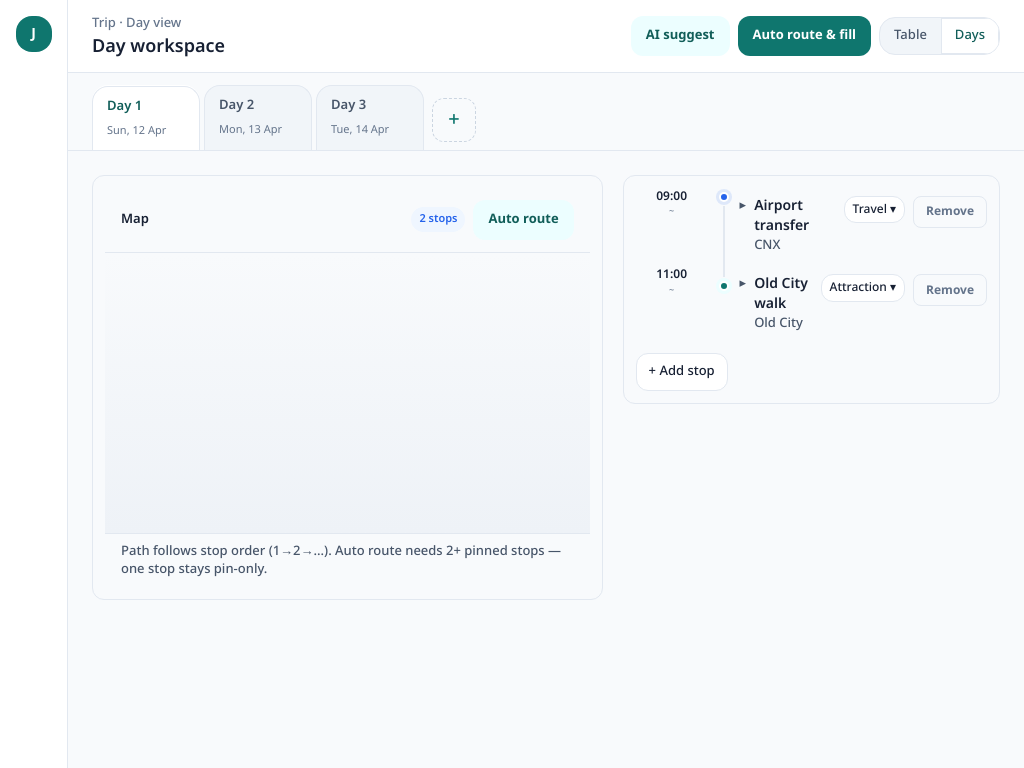
it: DayWorkspacePage topbar AI Suggest / Auto route & fill (T11 #1) › AI suggest and Auto route & fill POST day-plan-assist for the active day and inject returned options as inline chips
The image size is (1024, 768).
What coordinates should you click on to do the following:
click the tab "Day 2 Mon, 13 Apr"
I would click on:
 (258, 117)
Its box is [204,85,312,150].
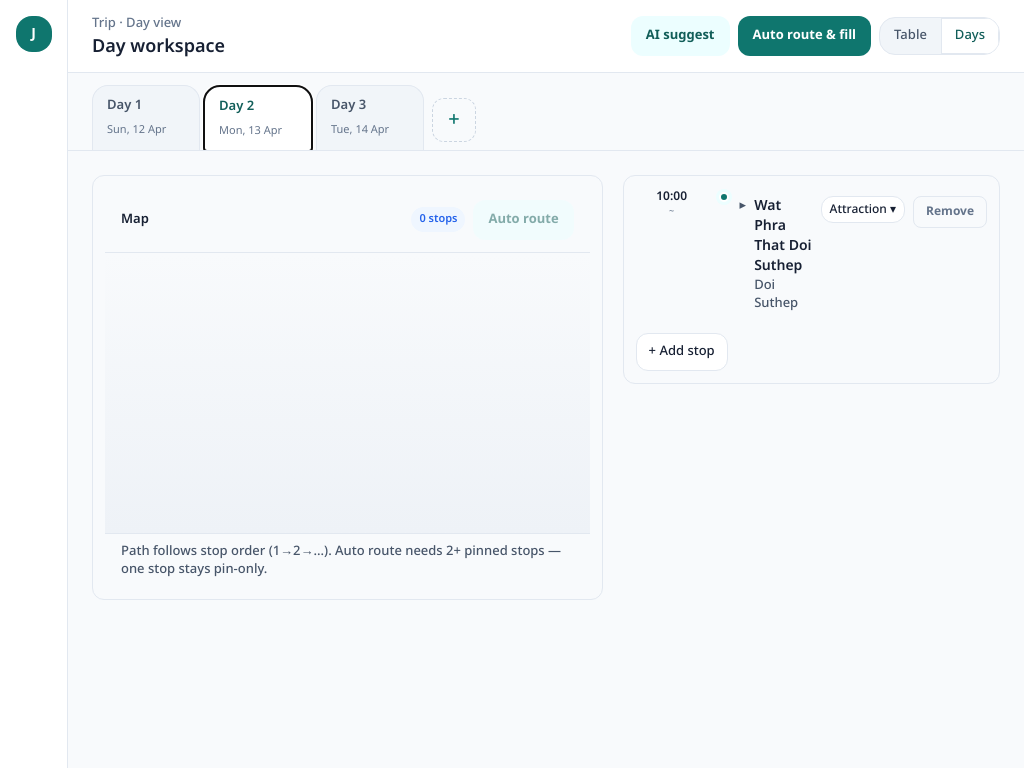
What coordinates should you click on to do the following:
click the button "AI suggest"
I would click on:
 (680, 36)
Its box is [631,16,730,56].
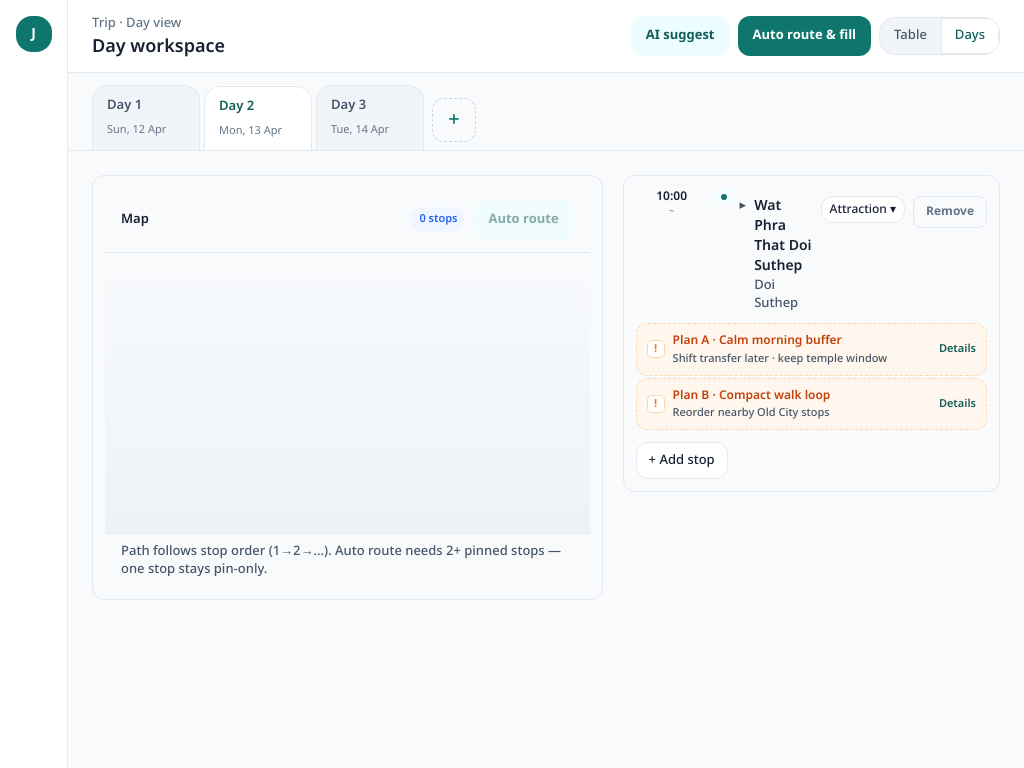
Now the button "Plan A · Calm morning buffer" is shown, box [636,323,987,376]
Now the button "Plan B · Compact walk loop" is shown, box [636,378,987,430]
Now the text "Shift transfer later · keep temple window" is shown, box [673,350,887,367]
Auto route & fill on Day 1 (≥2 geo pins) — autoRoute mode + chips.
What coordinates should you click on to do the following:
click the tab "Day 1 Sun, 12 Apr"
I would click on:
 (146, 117)
Its box is [92,85,200,150].
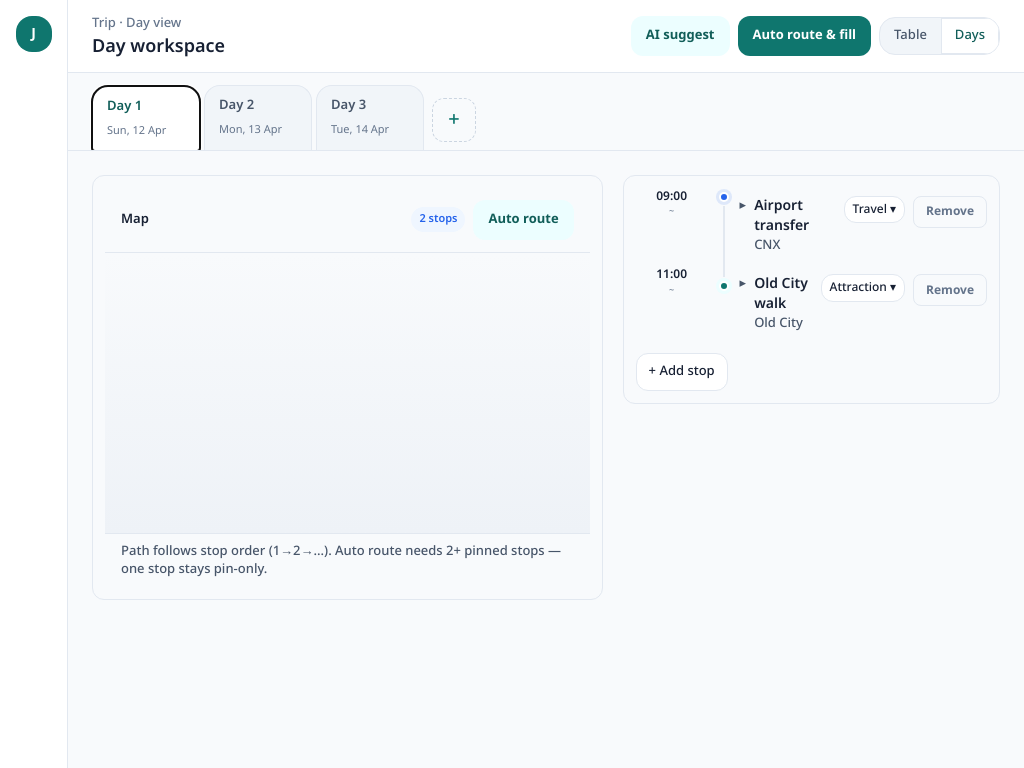
What coordinates should you click on to do the following:
click the button "Auto route & fill"
I would click on:
 (804, 36)
Its box is [738,16,871,56].
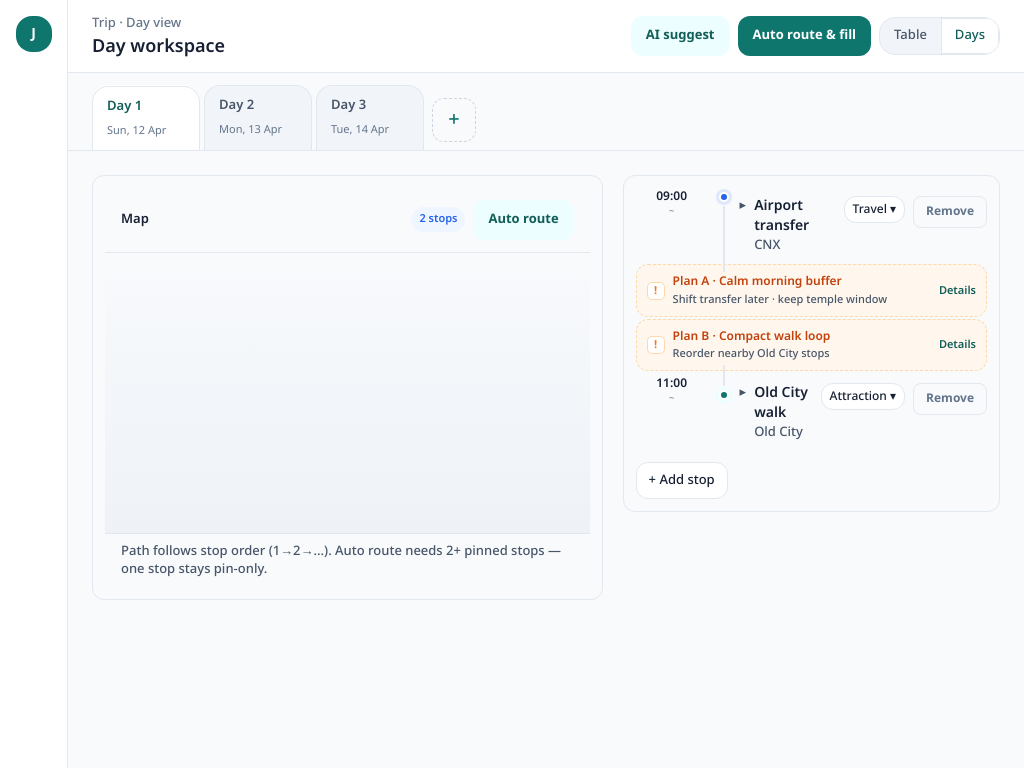
Now the button "Plan A · Calm morning buffer" is shown, box [636,264,987,317]
Now the button "Plan B · Compact walk loop" is shown, box [636,319,987,371]
